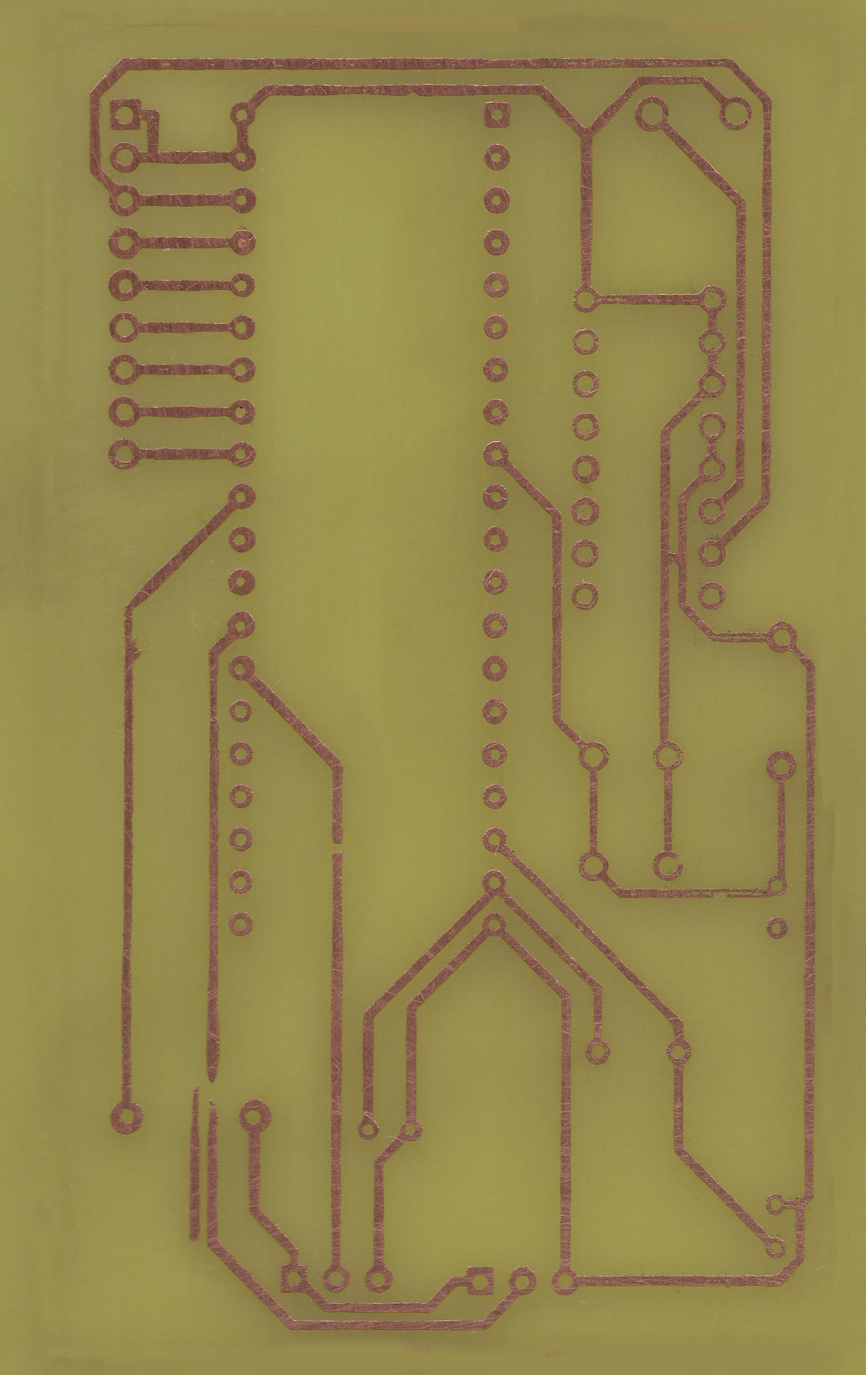missing_hole: (653, 852, 682, 880), (653, 744, 684, 769)
mouse_bite: (711, 888, 731, 899), (405, 84, 420, 96)
open_circuit: (206, 1063, 221, 1130), (332, 835, 343, 861)
short: (662, 547, 688, 568)
spur: (126, 638, 141, 668)
spurious_copper: (189, 1084, 201, 1241)
